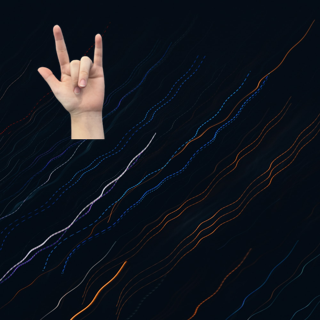ILY: (35, 23, 110, 118)
